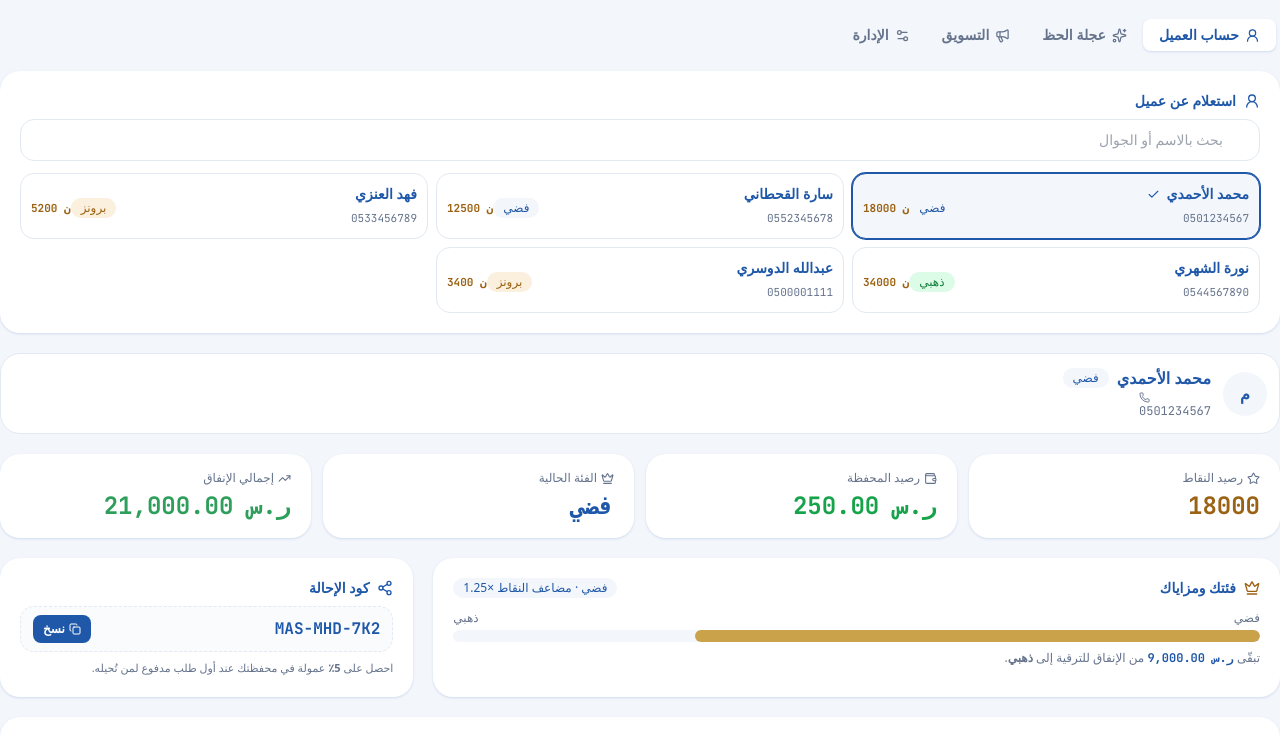
Test: view-only roles see no write buttons › sales cannot manage campaigns or wheel prizes
The image size is (1280, 737).
Click the button "التسويق". click: click(976, 35)
box: [926, 19, 1026, 51]
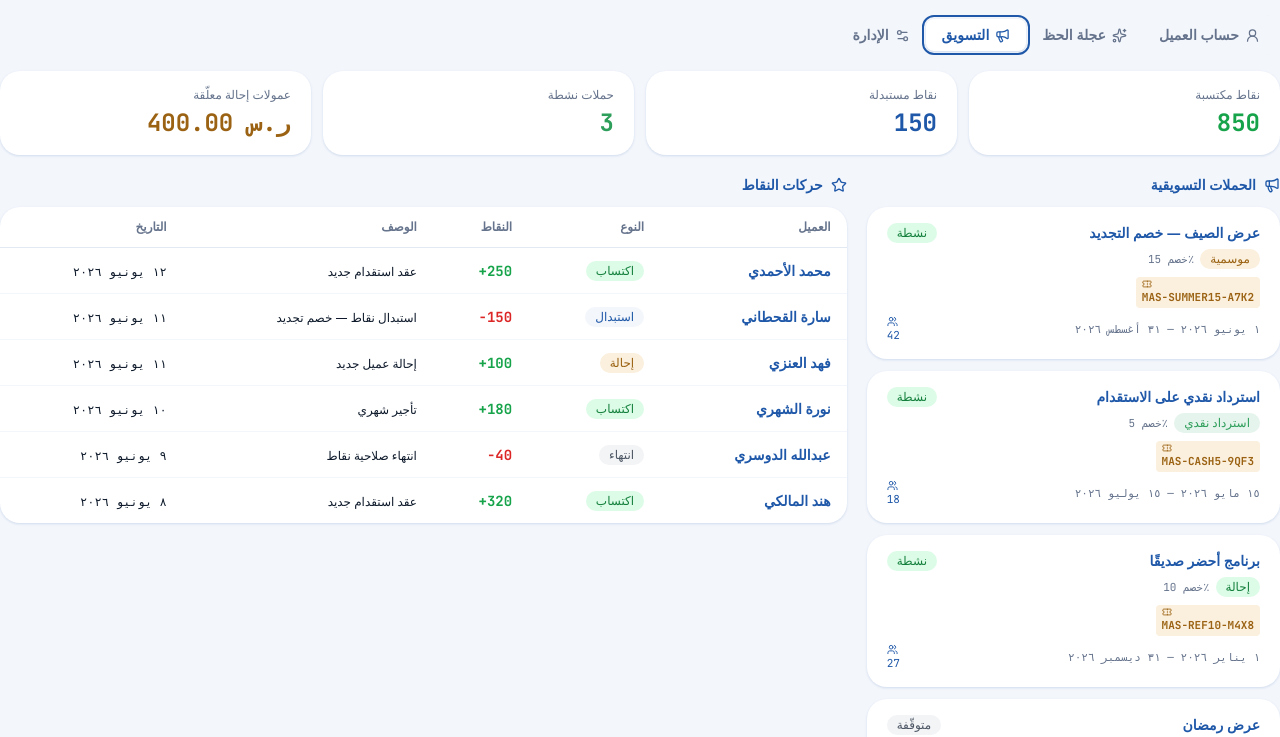
Check: the text "برنامج أحضر صديقًا" is shown, box [1150, 551, 1260, 571]
Click the button "الإدارة". click: click(881, 35)
box: [836, 19, 926, 51]
(page scrolled)
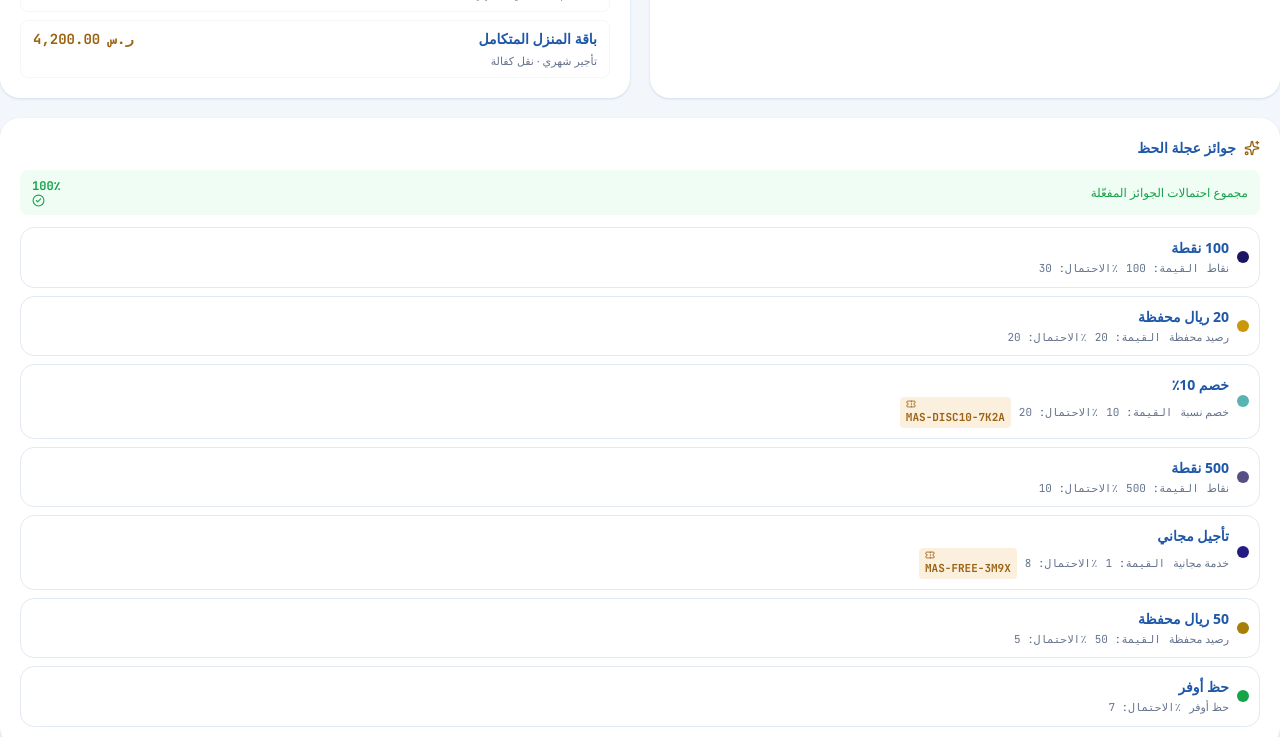
Check: the text "500 نقطة" is shown, box [1171, 458, 1229, 478]
